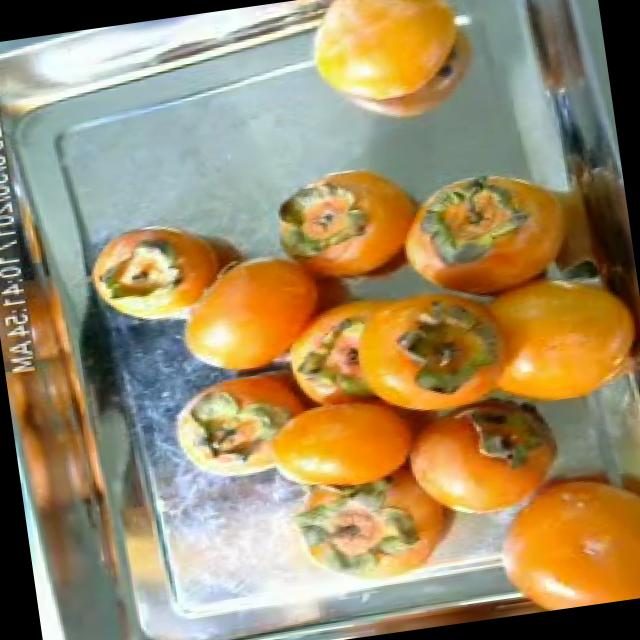Fruit: (284, 0, 507, 148), (254, 150, 445, 304), (154, 240, 338, 394), (76, 208, 216, 340)
